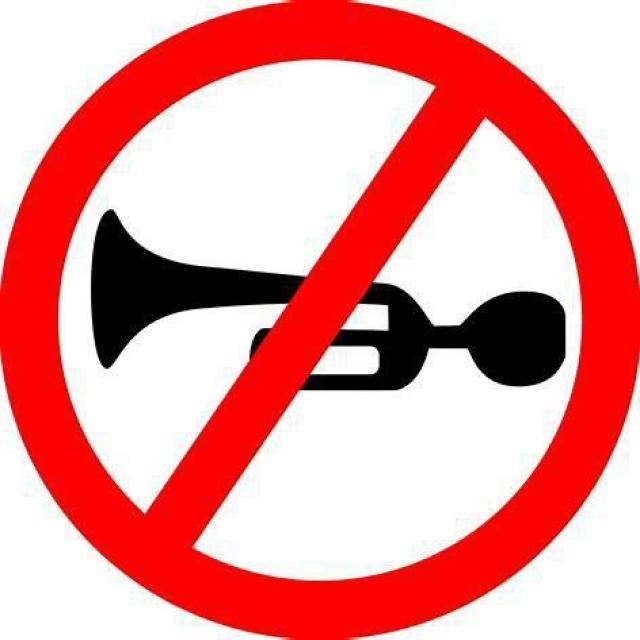horn prohibited: (13, 13, 629, 626)
